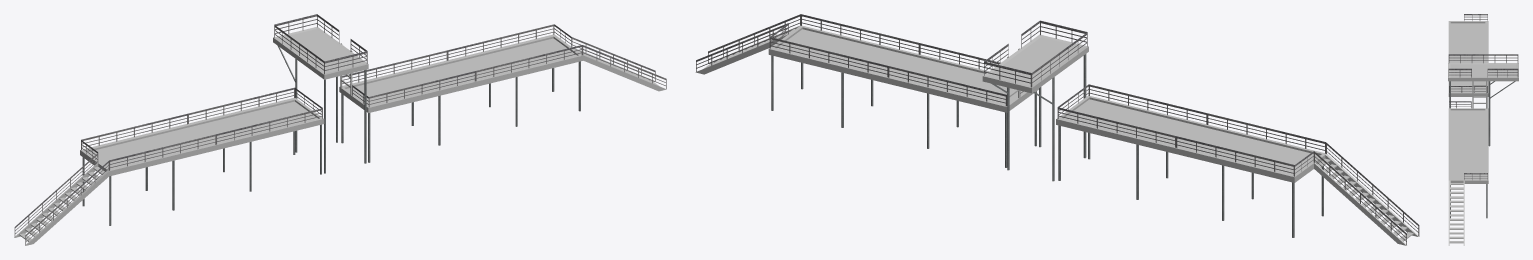
File: Detail-03-b.fbx
3 views of the same model, side by side, from view 1: azimuth 30°, elevation 25°; view 2: azimuth 150°, elevation 25°; view 3: azimuth 270°, elevation 25° (orthographic). The views are drawn at different scales.
Parts seen in each view (by area): view 1: Detail-03; view 2: Detail-03; view 3: Detail-03.
Boxes of the visible parts, left/top/right/bottom form: Detail-03: left=14, top=14, right=666, bottom=245; Detail-03: left=695, top=14, right=1419, bottom=245; Detail-03: left=1448, top=14, right=1518, bottom=245.
Size of the model in its own units: 5125 by 863 by 711.
